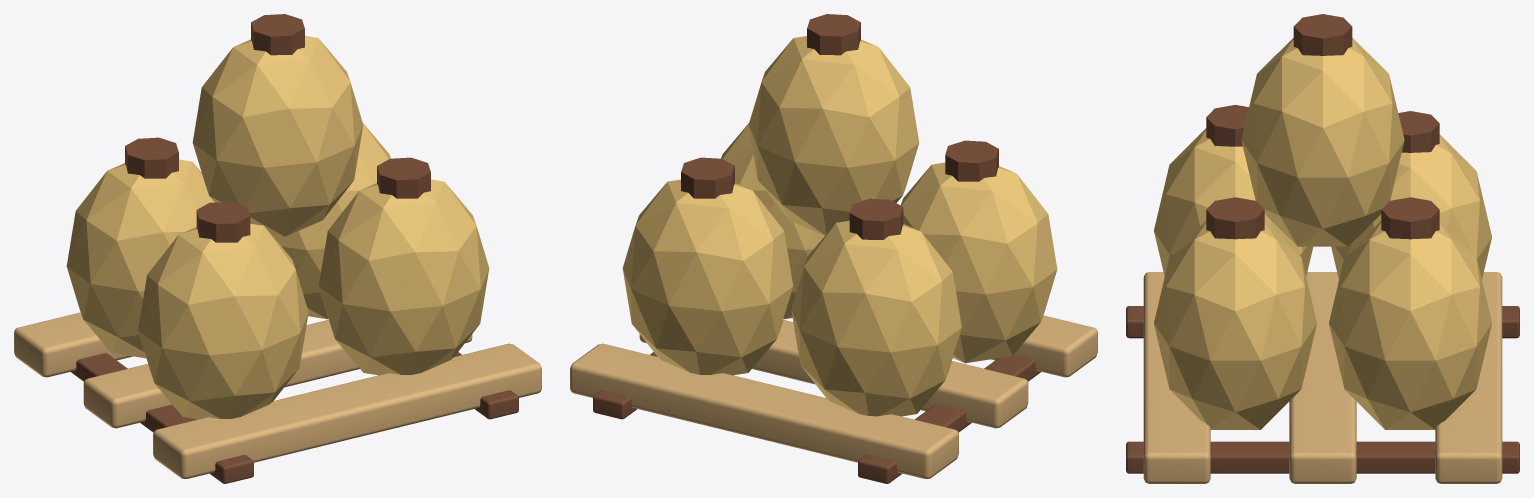
The model's file is Cargo_Grain.fbx.
3 renders of one model, left to right at view 1: azimuth 30°, elevation 25°; view 2: azimuth 150°, elevation 25°; view 3: azimuth 270°, elevation 25°, orthographic. The views are drawn at different scales.
Visible parts, largest first — view 1: Cargo_Grain_Static; view 2: Cargo_Grain_Static; view 3: Cargo_Grain_Static.
Boxes of the visible parts, x1,y1,x2,y2 form: Cargo_Grain_Static: [14, 14, 541, 483]; Cargo_Grain_Static: [570, 14, 1097, 483]; Cargo_Grain_Static: [1126, 14, 1519, 483].
Size of the model in its own units: 1.5 by 1.41 by 1.35.
Materials: 1 (1 with a texture image).
